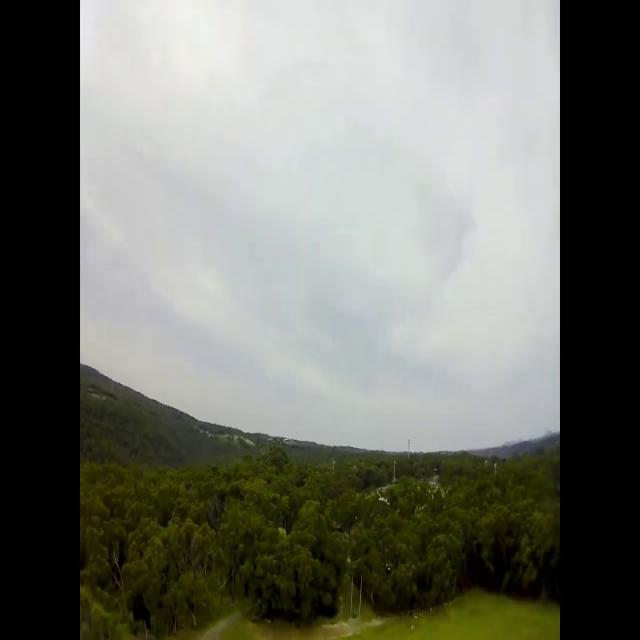iha: (377, 489, 391, 506)
